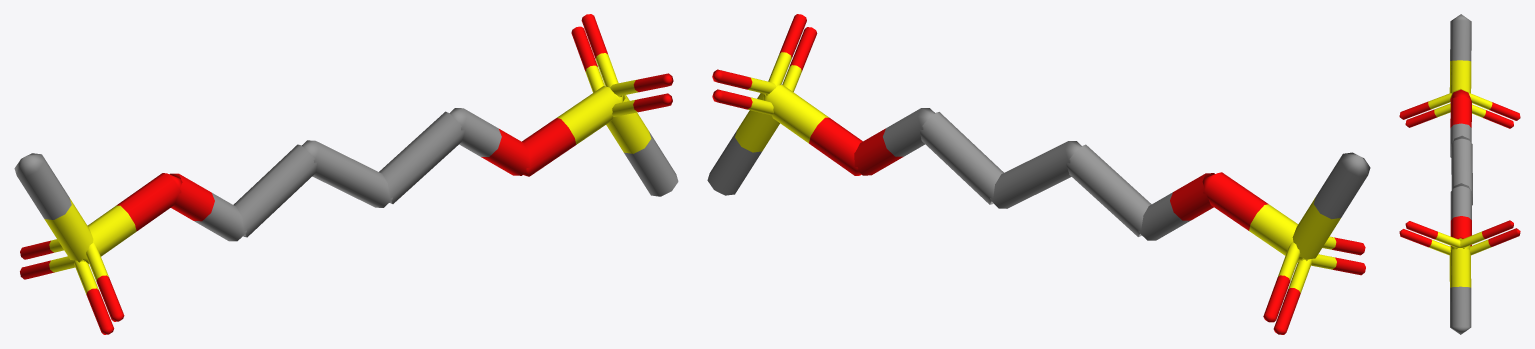
The model's file is busulfan.glb.
3 views of the same model, side by side, from view 1: azimuth 30°, elevation 25°; view 2: azimuth 150°, elevation 25°; view 3: azimuth 270°, elevation 25° (orthographic). The views are drawn at different scales.
Parts seen in each view (by area): view 1: node-geom3; view 2: node-geom3; view 3: node-geom3.
Boxes of the visible parts, <box> form: node-geom3: <box>14,14,678,334</box>; node-geom3: <box>707,14,1370,334</box>; node-geom3: <box>1399,14,1520,334</box>.
Size of the model in its own units: 11.29 by 3.15 by 2.84.
